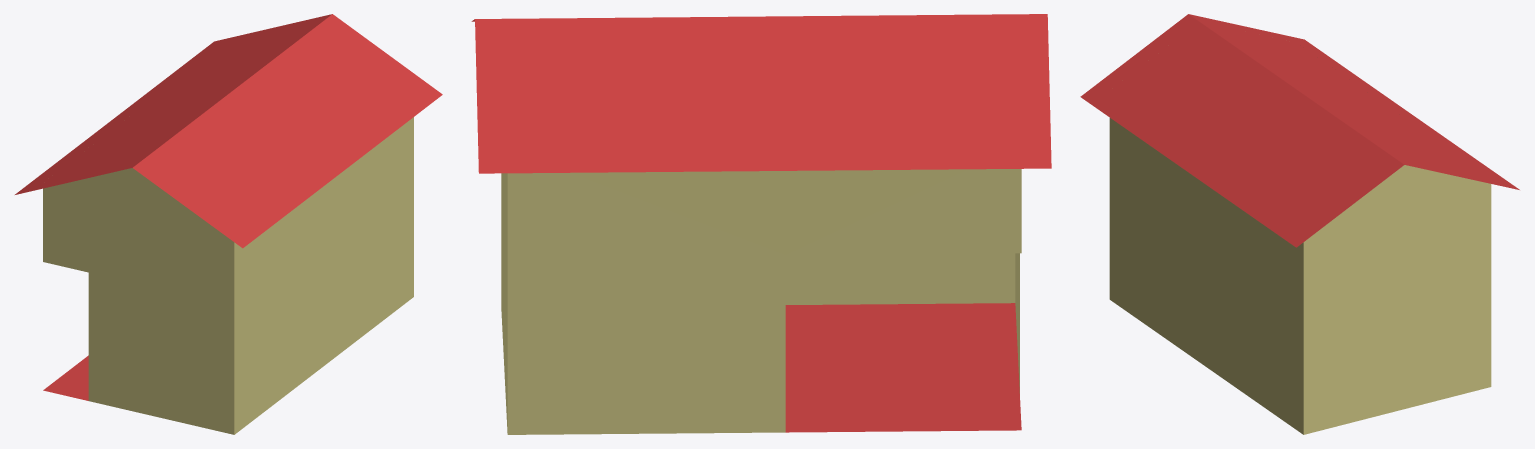
The picture shows the model from 3 angles, left to right: view 1: azimuth 30°, elevation 25°; view 2: azimuth 150°, elevation 25°; view 3: azimuth 270°, elevation 25°; orthographic projection. The views are drawn at different scales.
Bounding box in the file's own units: 17.3 × 15.46 × 9.87.
